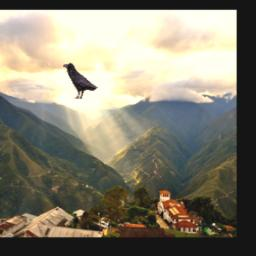Crow: (62, 61, 98, 99)
